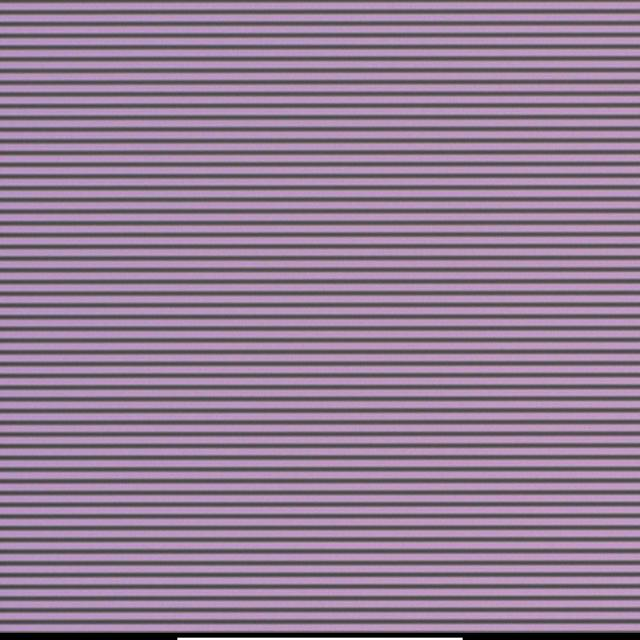nonvisual: (320, 298, 332, 314)
